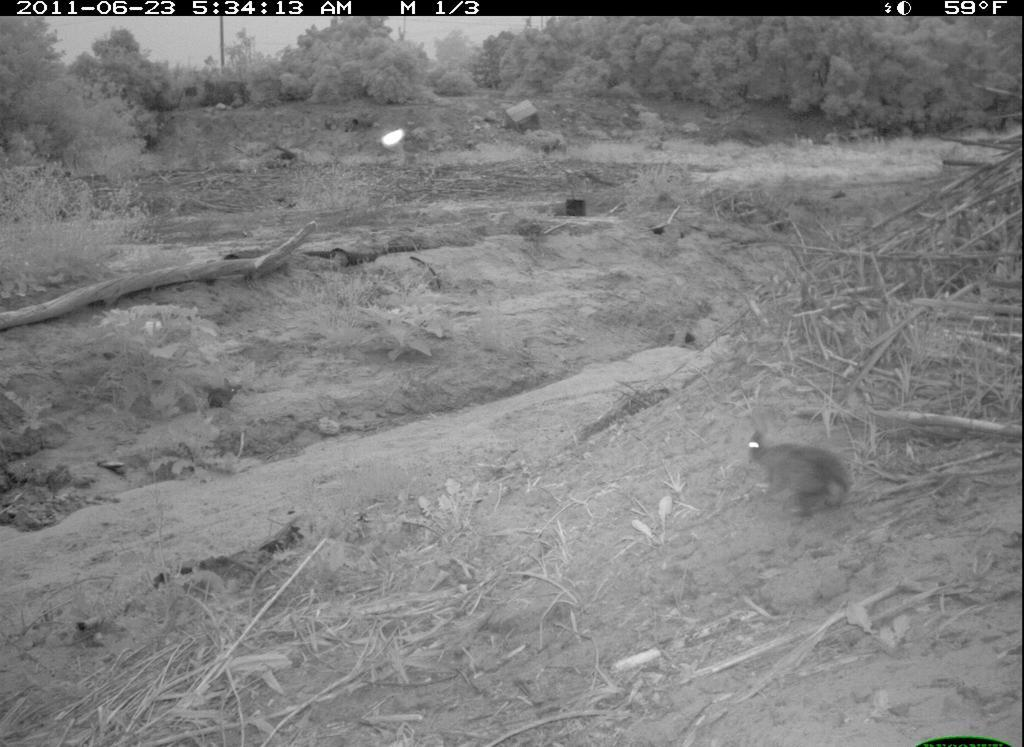rabbit: (739, 410, 868, 534)
